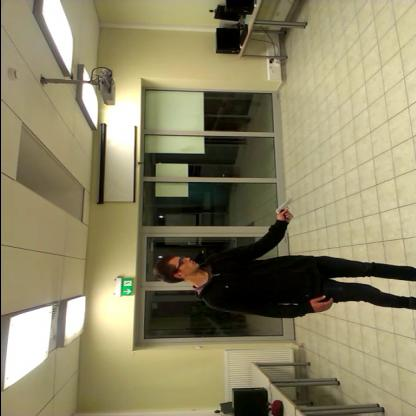Pistol: (264, 190, 300, 221)
